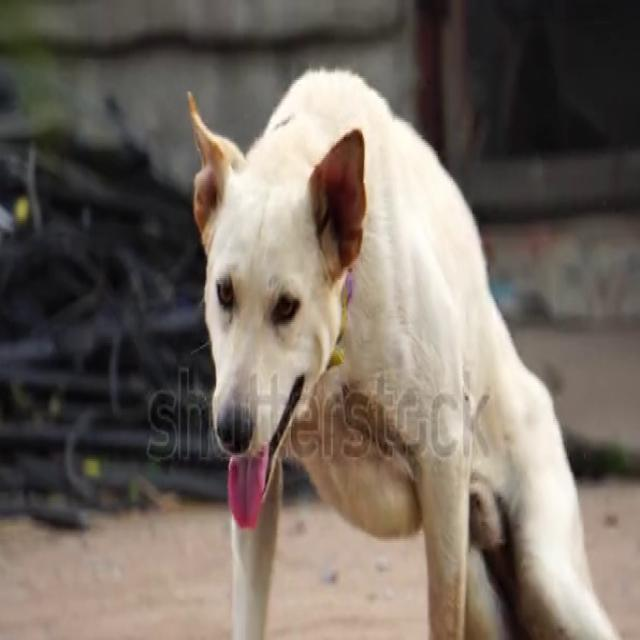injured-animals: (180, 61, 637, 638)
